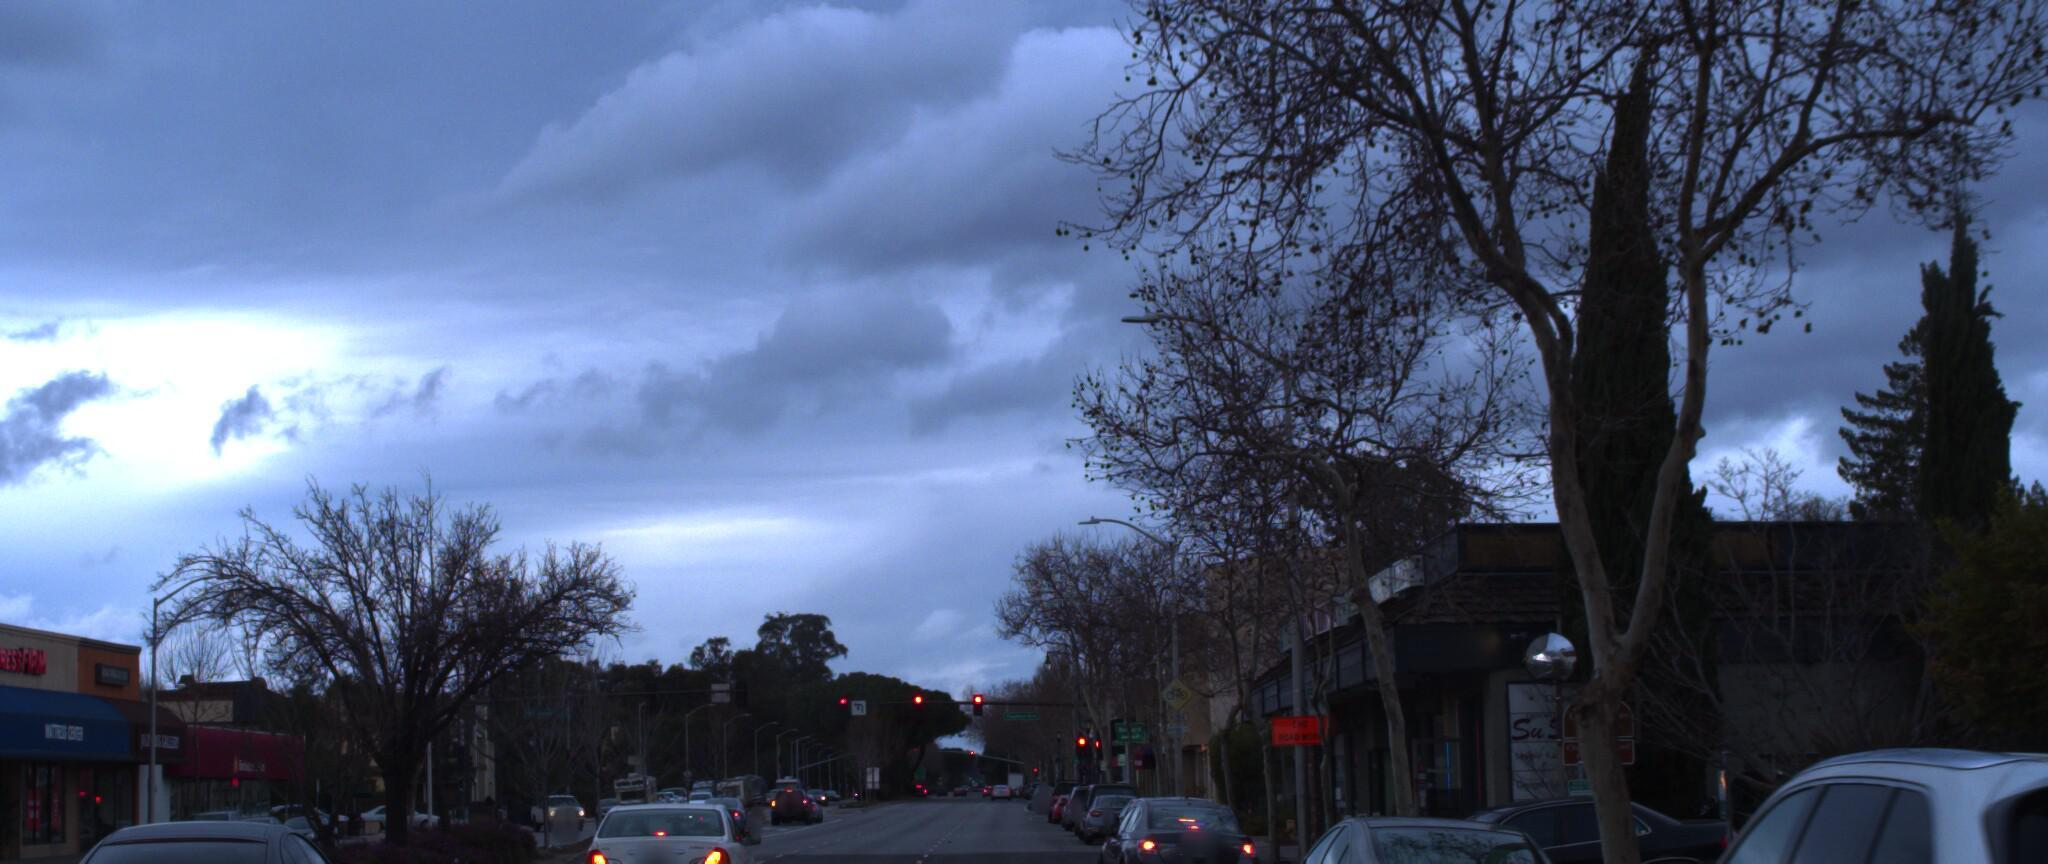car: (1524, 713, 2048, 864), (1206, 787, 1685, 864), (7, 794, 400, 864), (1240, 808, 1622, 864), (555, 774, 772, 864), (1088, 784, 1256, 864), (1894, 820, 2048, 864), (0, 792, 7, 864)
